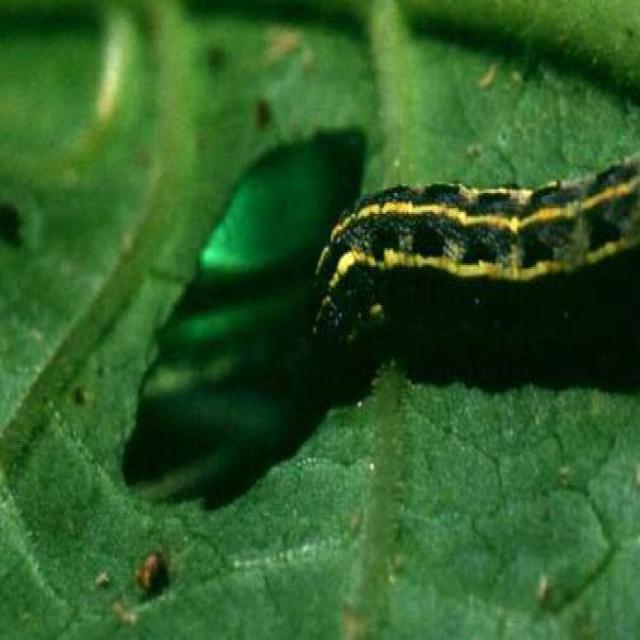BeetArmyWorm-Larva-: (301, 142, 633, 388)
